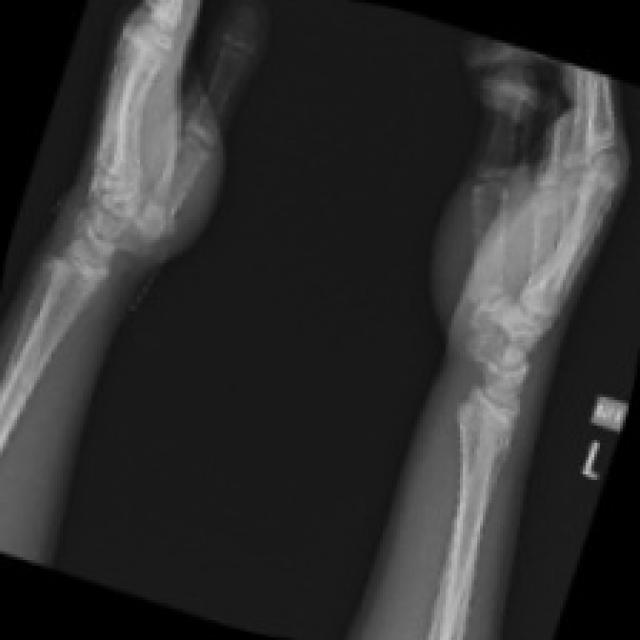fracture: (448, 320, 565, 470)
